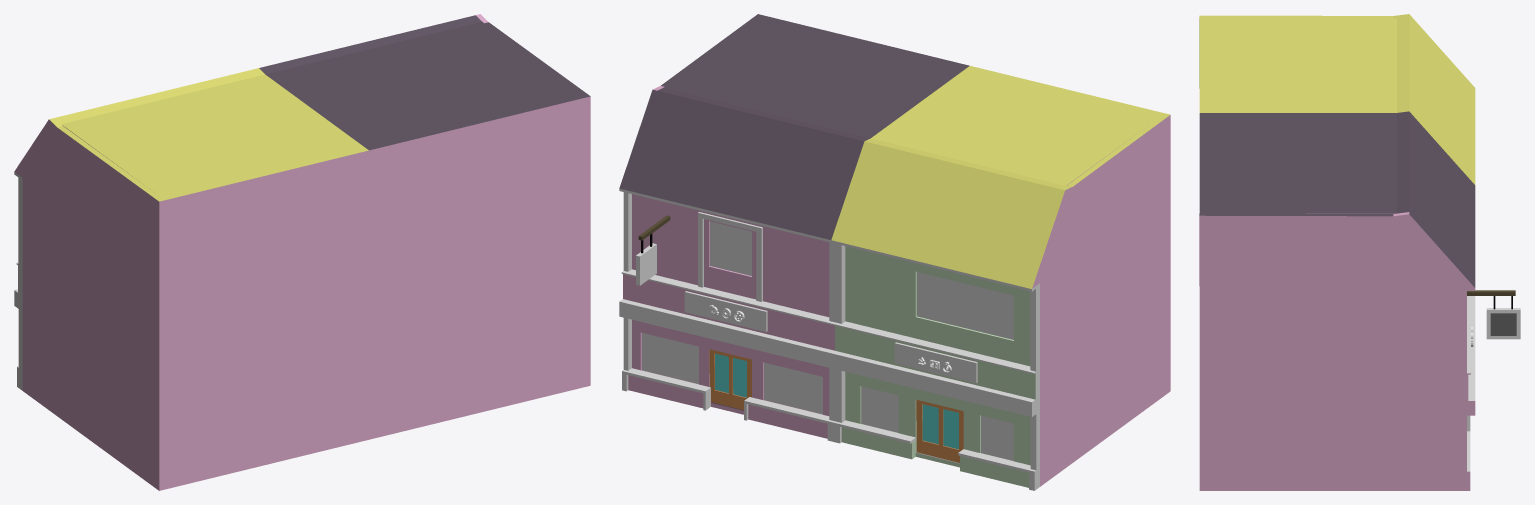
The model's file is FESTIVAL BUILDING 4.fbx.
The picture shows the model from 3 angles, left to right: view 1: azimuth 30°, elevation 25°; view 2: azimuth 150°, elevation 25°; view 3: azimuth 270°, elevation 25°; orthographic projection. The views are drawn at different scales.
Parts seen in each view (by area): view 1: Cube.008; view 2: Cube.008, Cube.034, Cube.021, Cube.020, Cube.019, Cube.018, Cube.023; view 3: Cube.008, Cube.023.
Boxes of the visible parts, x1,y1,x2,y2 form: Cube.008: (14,14,590,490); Cube.008: (619,14,1170,490); Cube.034: (642,221,1013,460); Cube.021: (916,399,963,462); Cube.020: (709,349,751,410); Cube.019: (894,342,977,383); Cube.018: (684,291,767,331); Cube.023: (636,215,670,285); Cube.008: (1199,14,1475,490); Cube.023: (1467,290,1520,339).
Size of the model in its own units: 3725 by 2400 by 2523.
